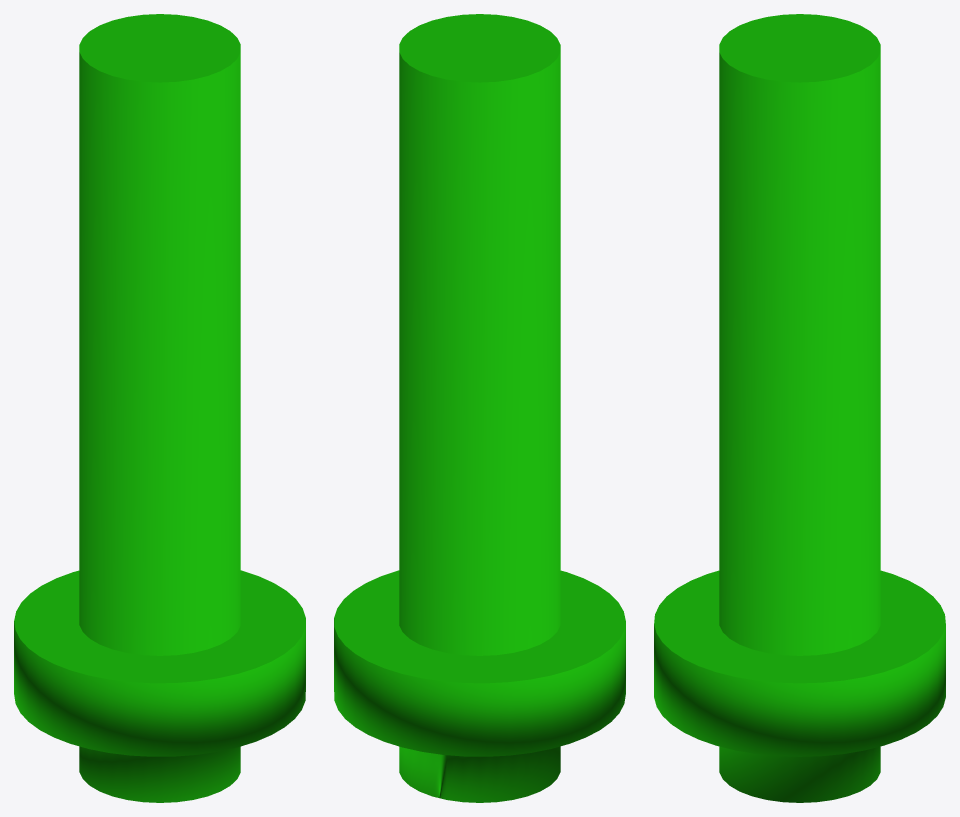
Rendered from NChannel_Green.dae.
The picture shows the model from 3 angles, left to right: view 1: azimuth 30°, elevation 25°; view 2: azimuth 150°, elevation 25°; view 3: azimuth 270°, elevation 25°; orthographic projection.
Parts seen in each view (by area): view 1: NChannel_Green; view 2: NChannel_Green; view 3: NChannel_Green.
Part boxes in pixels (x1,y1,x2,y2): NChannel_Green: (14,14,305,802); NChannel_Green: (334,14,625,802); NChannel_Green: (654,14,945,802).
Size of the model in its own units: 17.97 by 17.99 by 49.
